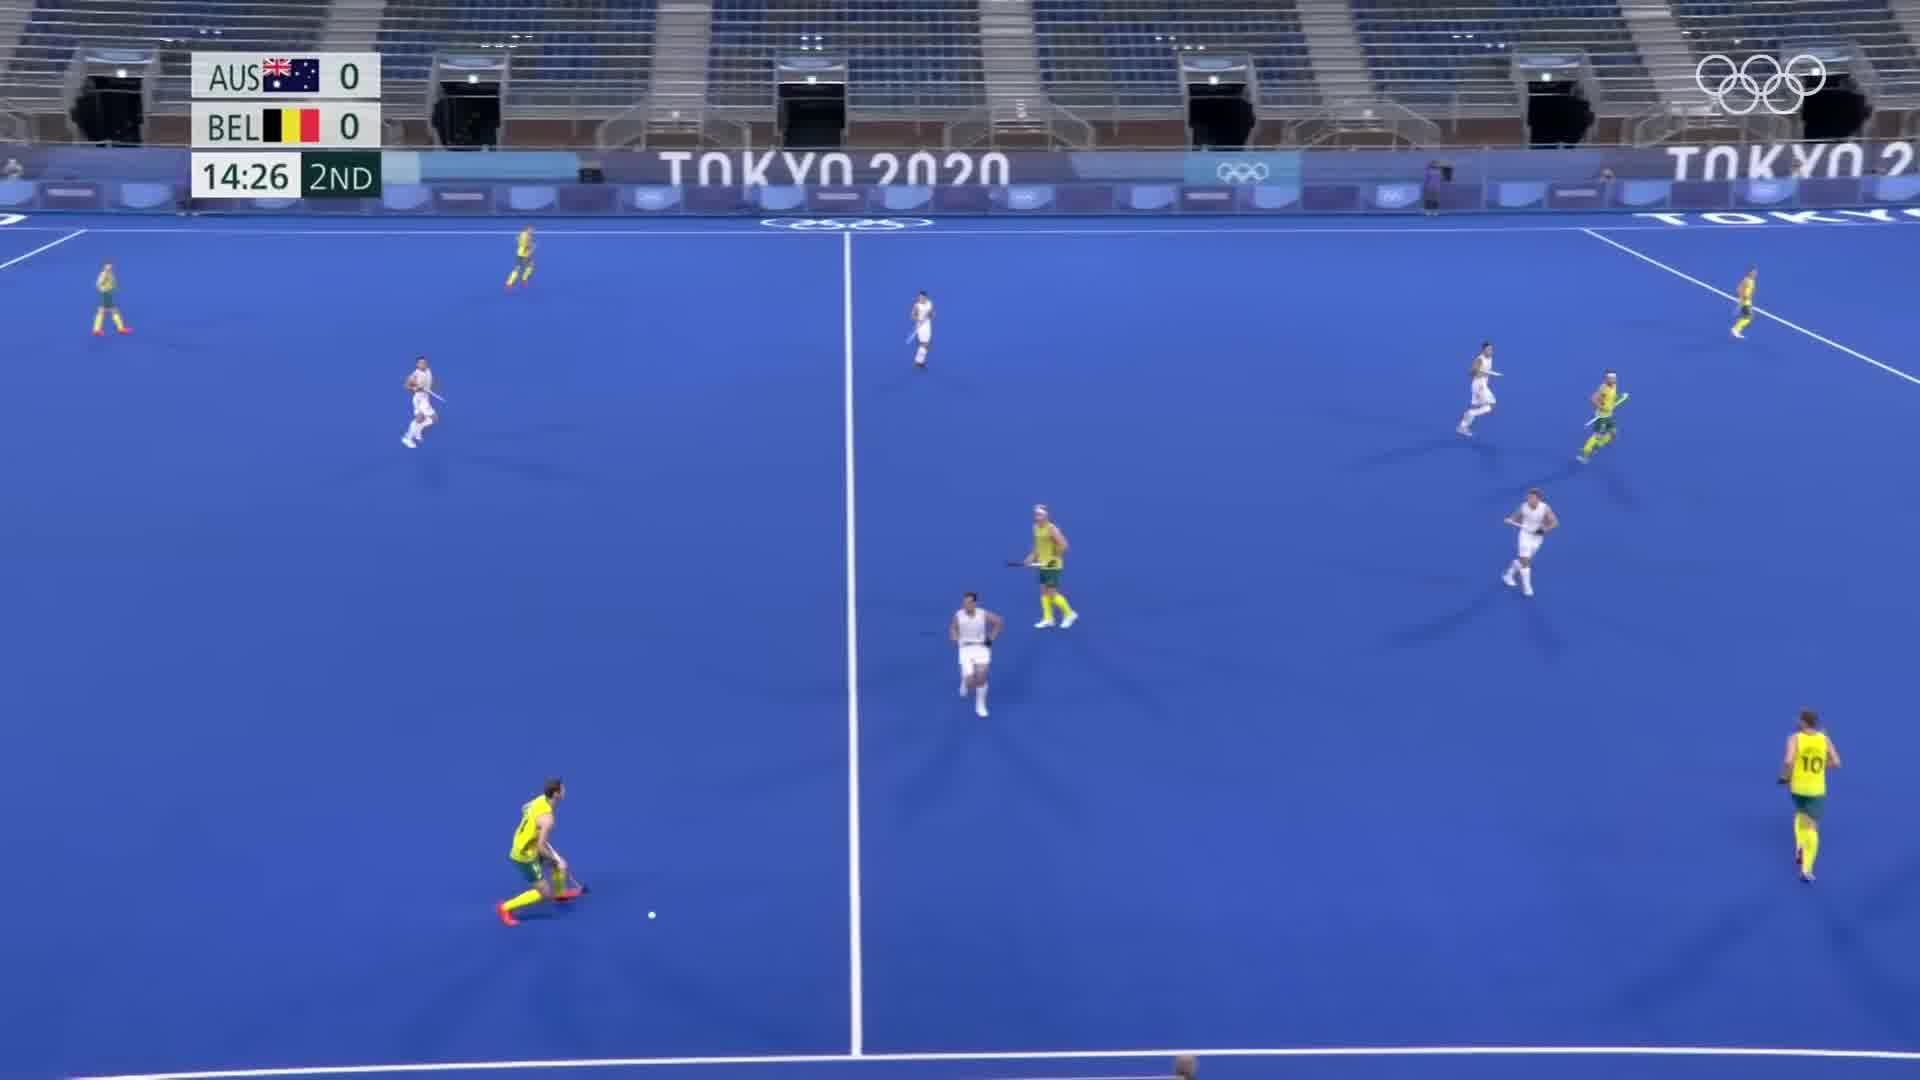ball: (644, 903, 662, 928)
